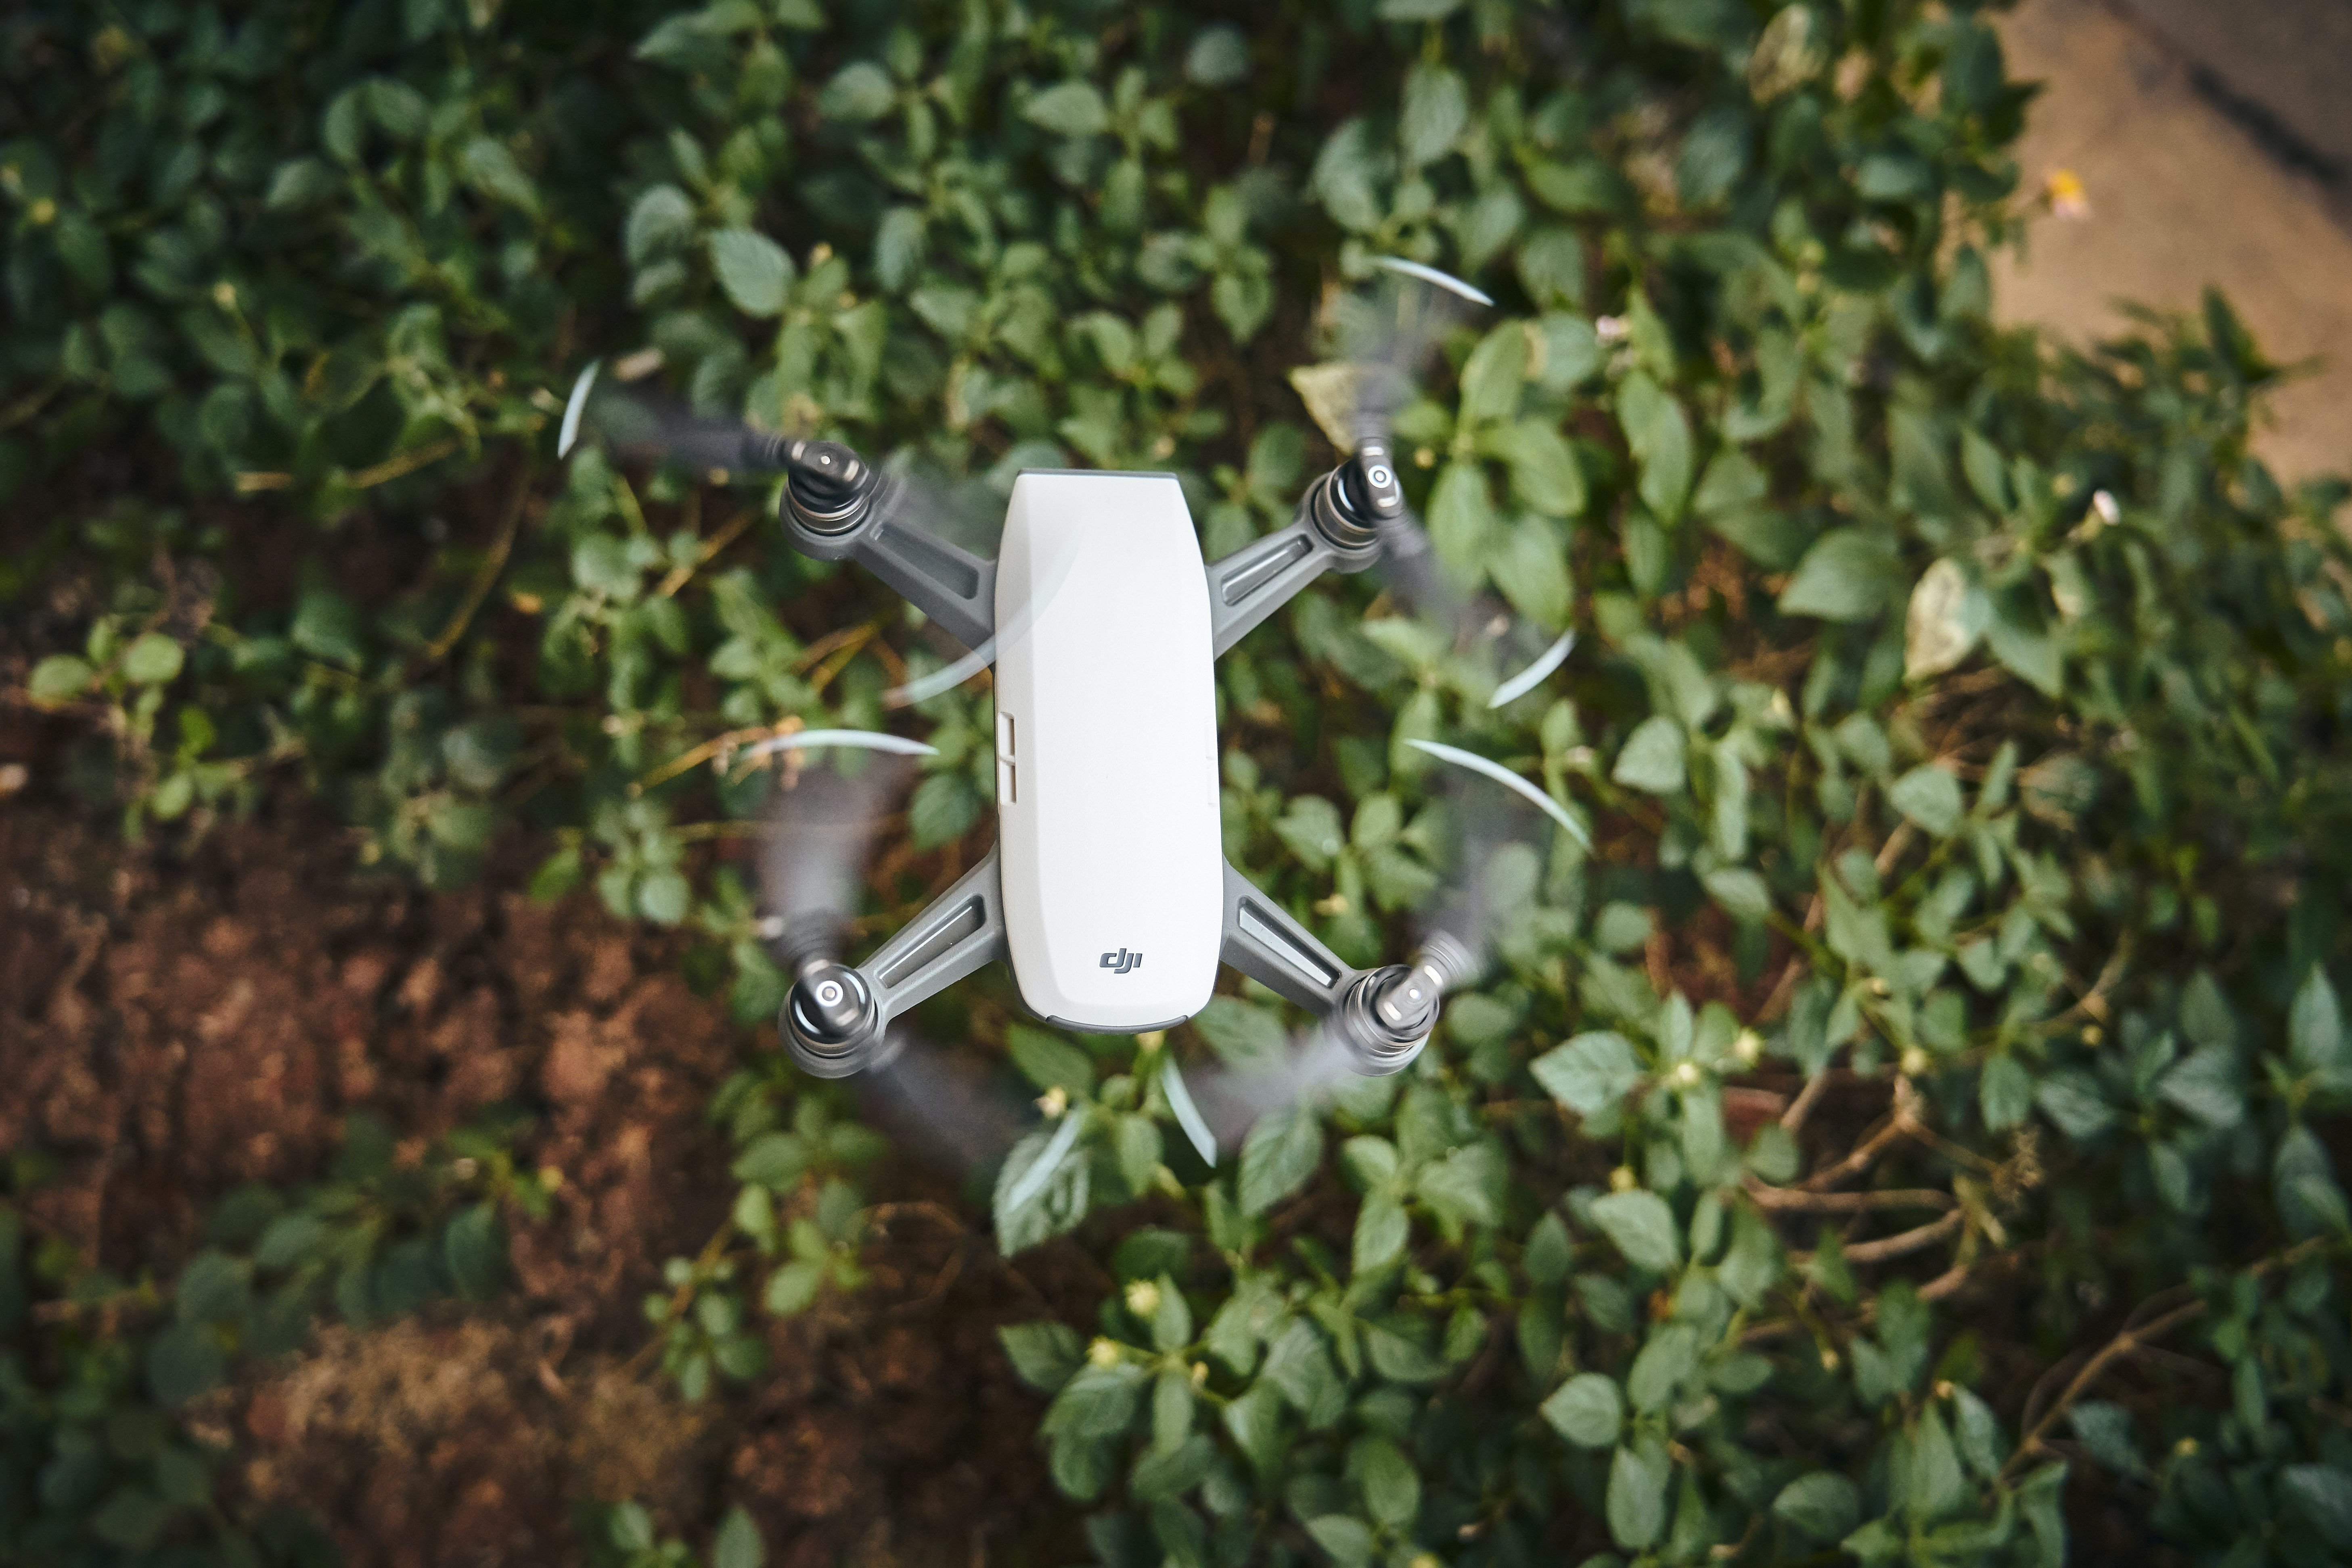drone: (455, 187, 1741, 1297)
